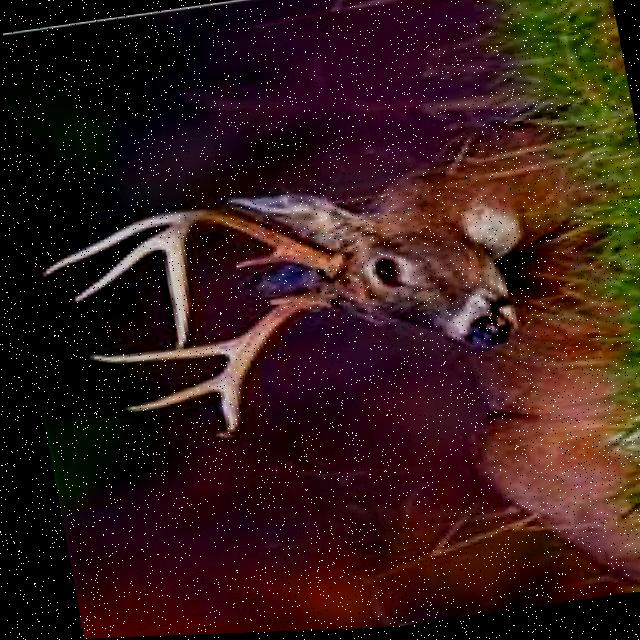L-F: (160, 206, 339, 347)
L-G1: (227, 251, 283, 269)
L-G2: (35, 210, 179, 276)
L-G3: (65, 227, 163, 303)
R-F: (204, 293, 324, 439)
R-G1: (261, 295, 296, 307)
R-G2: (82, 338, 231, 363)
R-G3: (112, 374, 215, 412)
